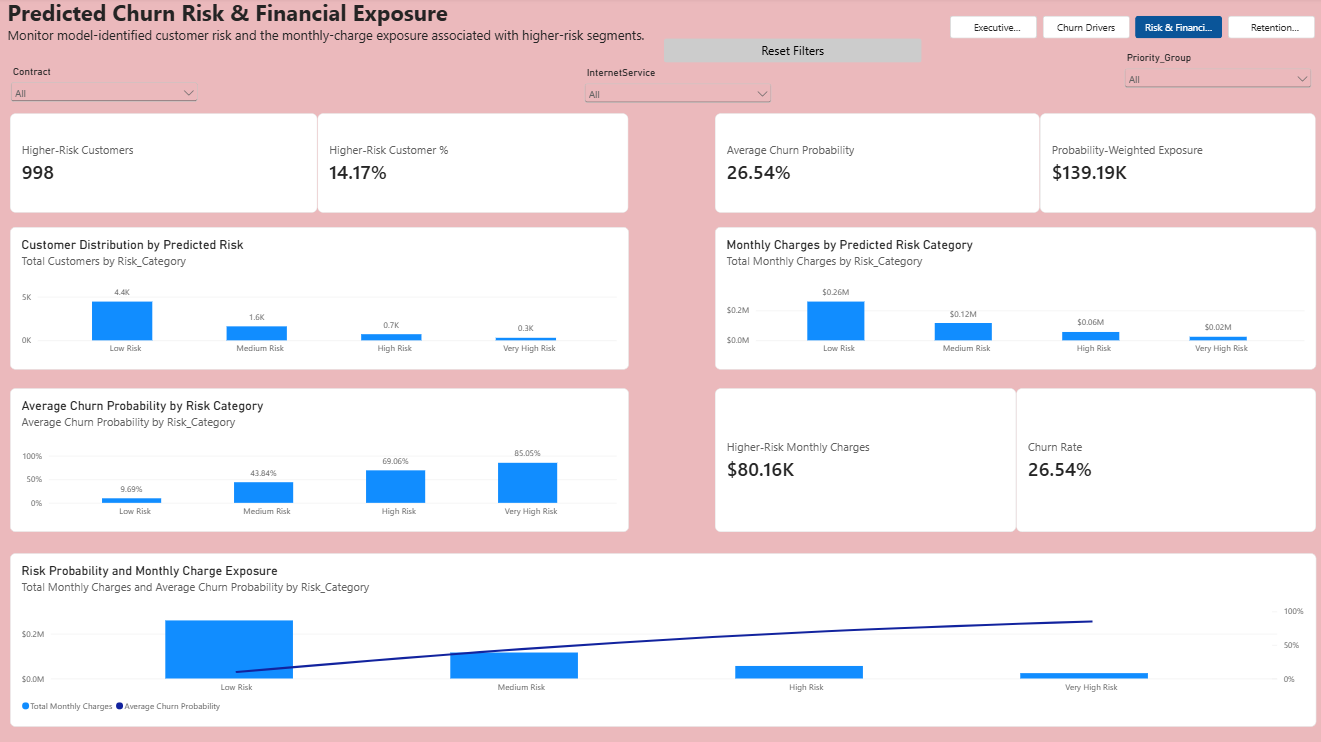

The dashboard page shown, as its layout file describes it:
{"tool":"powerbi","page":{"name":"Risk & Financial Exposure","canvas":[1920,1080],"ordinal":2},"visuals":[{"type":"textbox","box":[10.9,0,1896.5,121.2],"z":0},{"type":"cardVisual","fields":{"Data":["Customer_Churn.Higher-Risk Customers"]},"box":[14.5,168.3,445.2,144.8],"z":1000},{"type":"cardVisual","fields":{"Data":["Customer_Churn.Higher-Risk Customer %"]},"box":[459.7,168.3,450.6,144.8],"z":2000},{"type":"cardVisual","fields":{"Data":["Customer_Churn.Average Churn Probability"]},"box":[1035.1,168.3,470.5,144.8],"z":3000},{"type":"cardVisual","fields":{"Data":["Customer_Churn.Probability-Weighted Exposure"]},"box":[1505.6,168.3,399.9,144.8],"z":4000},{"type":"clusteredColumnChart","title":"Customer Distribution by Predicted Risk","fields":{"Category":["Customer_Churn.Risk_Category"],"Y":["Customer_Churn.Total Customers"]},"box":[14.5,333,895.8,206.3],"z":5000},{"type":"clusteredColumnChart","title":"Monthly Charges by Predicted Risk Category","fields":{"Category":["Customer_Churn.Risk_Category"],"Y":["Customer_Churn.Total Monthly Charges"]},"box":[1035.1,333,870.4,206.3],"z":6000},{"type":"clusteredColumnChart","title":"Average Churn Probability by Risk Category","fields":{"Category":["Customer_Churn.Risk_Category"],"Y":["Customer_Churn.Average Churn Probability"]},"box":[14.5,566.4,895.8,208.1],"z":7000},{"type":"cardVisual","fields":{"Data":["Customer_Churn.Higher-Risk Monthly Charges"]},"box":[1035.1,566.4,436.1,208.1],"z":8000},{"type":"cardVisual","fields":{"Data":["Customer_Churn.Churn Rate"]},"box":[1471.3,566.4,434.3,208.1],"z":9000},{"type":"lineClusteredColumnComboChart","title":"Risk Probability and Monthly Charge Exposure","fields":{"Category":["Customer_Churn.Risk_Category"],"Y":["Customer_Churn.Total Monthly Charges"],"Y2":["Customer_Churn.Average Churn Probability"]},"box":[14.5,805.3,1891.1,251.5],"z":10000},{"type":"slicer","fields":{"Values":["Customer_Churn.Contract"]},"box":[10.9,99.5,280,280],"z":11000},{"type":"slicer","fields":{"Values":["Customer_Churn.InternetService"]},"box":[841.5,101.3,280,280],"z":12000},{"type":"slicer","fields":{"Values":["Customer_Churn.Priority_Group"]},"box":[1624,80.2,280,252],"z":13000},{"type":"pageNavigator","box":[1375,27.7,528.4,33.2],"z":13001},{"type":"actionButton","box":[960.9,59.7,373.5,35.4],"z":13002}]}

Visuals, with their boxes in screenshot pixels (x1, y1, x2, y2), scaled from the page's 1920x1080 canvas onto the 1321x742 screenshot:
textbox: (left=7, top=0, right=1312, bottom=83)
cardVisual - Customer_Churn.Higher-Risk Customers: (left=10, top=116, right=316, bottom=215)
cardVisual - Customer_Churn.Higher-Risk Customer %: (left=316, top=116, right=626, bottom=215)
cardVisual - Customer_Churn.Average Churn Probability: (left=712, top=116, right=1036, bottom=215)
cardVisual - Customer_Churn.Probability-Weighted Exposure: (left=1036, top=116, right=1311, bottom=215)
"Customer Distribution by Predicted Risk" clusteredColumnChart: (left=10, top=229, right=626, bottom=371)
"Monthly Charges by Predicted Risk Category" clusteredColumnChart: (left=712, top=229, right=1311, bottom=371)
"Average Churn Probability by Risk Category" clusteredColumnChart: (left=10, top=389, right=626, bottom=532)
cardVisual - Customer_Churn.Higher-Risk Monthly Charges: (left=712, top=389, right=1012, bottom=532)
cardVisual - Customer_Churn.Churn Rate: (left=1012, top=389, right=1311, bottom=532)
"Risk Probability and Monthly Charge Exposure" lineClusteredColumnComboChart: (left=10, top=553, right=1311, bottom=726)
slicer - Customer_Churn.Contract: (left=7, top=68, right=200, bottom=261)
slicer - Customer_Churn.InternetService: (left=579, top=70, right=772, bottom=262)
slicer - Customer_Churn.Priority_Group: (left=1117, top=55, right=1310, bottom=228)
pageNavigator: (left=946, top=19, right=1310, bottom=42)
actionButton: (left=661, top=41, right=918, bottom=65)
